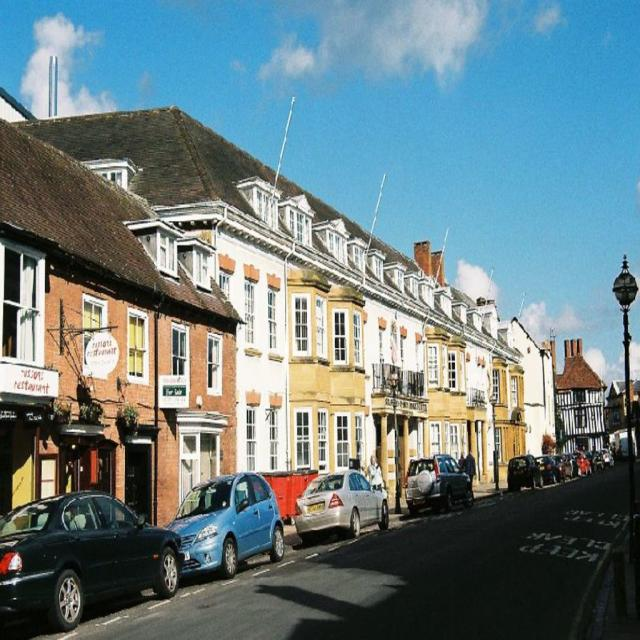car: (290, 468, 388, 540), (404, 449, 474, 506)
